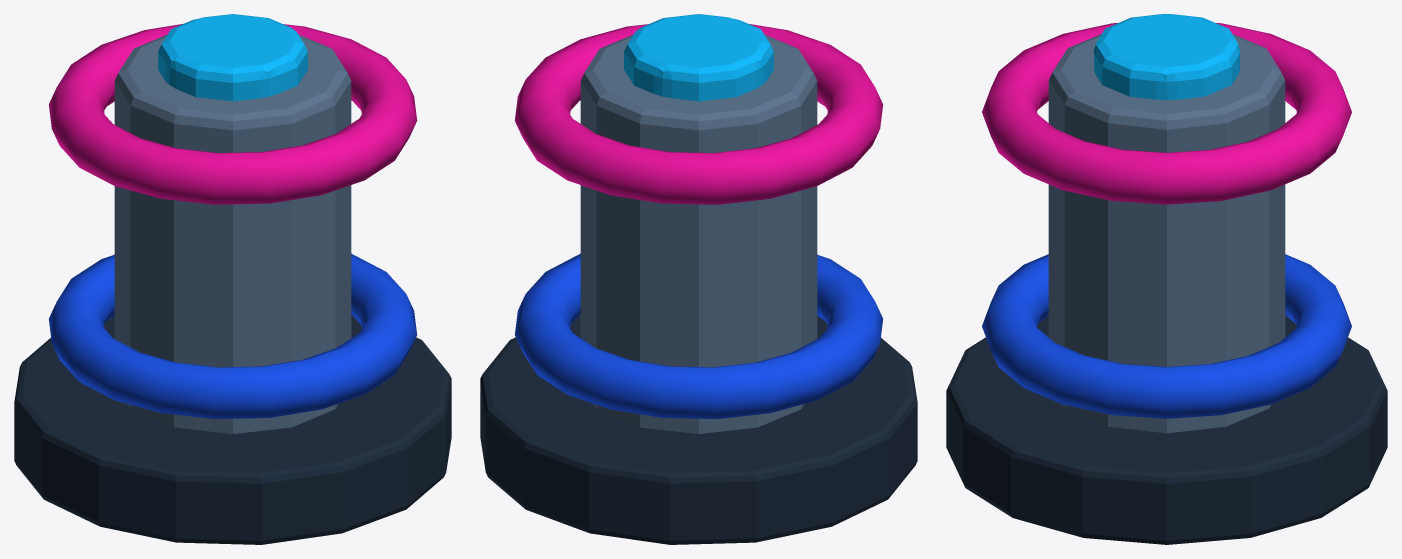
Rendered from energy_cell.obj.
The picture shows the model from 3 angles, left to right: view 1: azimuth 30°, elevation 25°; view 2: azimuth 150°, elevation 25°; view 3: azimuth 270°, elevation 25°; orthographic projection.
Visible parts, largest first — view 1: energy_cell_shell_M_steel, energy_cell_base_M_gunmetal, energy_cell_ring_high_M_magenta, energy_cell_ring_low_M_azure, energy_cell_core_M_cyan; view 2: energy_cell_shell_M_steel, energy_cell_base_M_gunmetal, energy_cell_ring_high_M_magenta, energy_cell_ring_low_M_azure, energy_cell_core_M_cyan; view 3: energy_cell_shell_M_steel, energy_cell_base_M_gunmetal, energy_cell_ring_high_M_magenta, energy_cell_ring_low_M_azure, energy_cell_core_M_cyan.
Part boxes in pixels (left/top/right/bottom): energy_cell_shell_M_steel: left=114, top=34, right=351, bottom=433; energy_cell_base_M_gunmetal: left=14, top=315, right=451, bottom=544; energy_cell_ring_high_M_magenta: left=48, top=24, right=417, bottom=204; energy_cell_ring_low_M_azure: left=49, top=253, right=416, bottom=418; energy_cell_core_M_cyan: left=158, top=14, right=307, bottom=101; energy_cell_shell_M_steel: left=580, top=34, right=817, bottom=433; energy_cell_base_M_gunmetal: left=480, top=315, right=917, bottom=544; energy_cell_ring_high_M_magenta: left=514, top=24, right=883, bottom=204; energy_cell_ring_low_M_azure: left=515, top=253, right=882, bottom=418; energy_cell_core_M_cyan: left=624, top=14, right=773, bottom=101; energy_cell_shell_M_steel: left=1048, top=34, right=1285, bottom=433; energy_cell_base_M_gunmetal: left=946, top=315, right=1387, bottom=544; energy_cell_ring_high_M_magenta: left=982, top=23, right=1351, bottom=204; energy_cell_ring_low_M_azure: left=982, top=254, right=1351, bottom=418; energy_cell_core_M_cyan: left=1094, top=14, right=1239, bottom=100.
Size of the model in its own units: 0.56 by 0.58 by 0.56.
